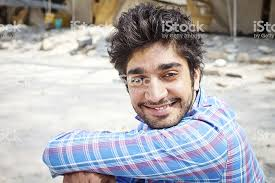Indian_Male: (117, 29, 200, 131)
